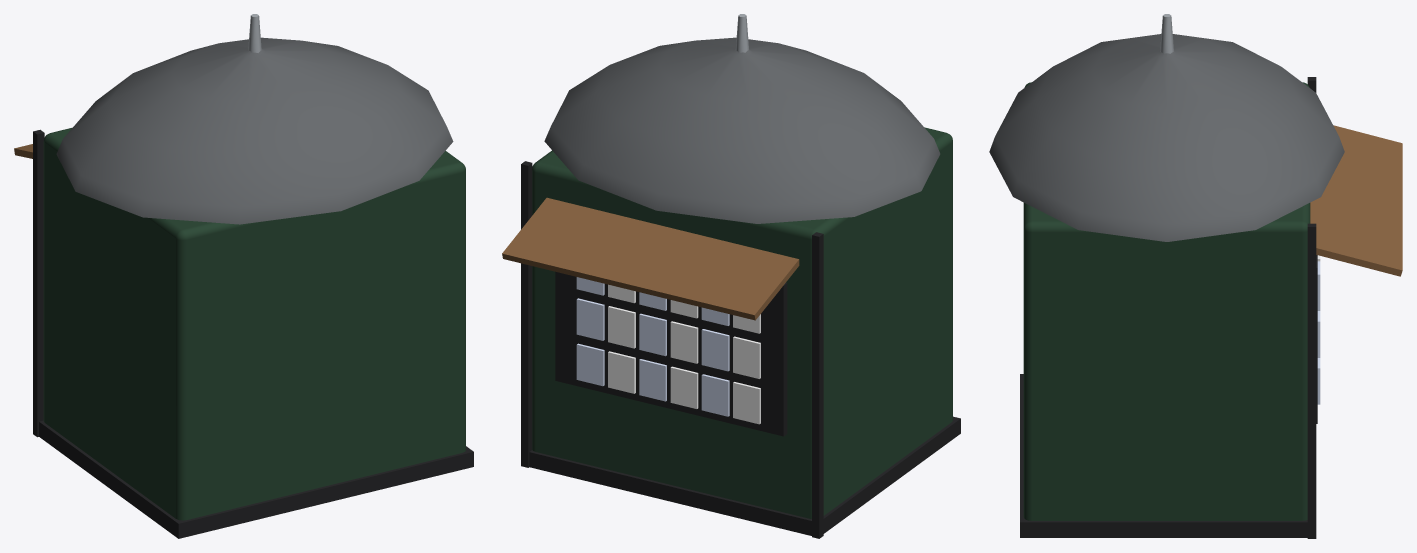
File: KIOSK.glb
The picture shows the model from 3 angles, left to right: view 1: azimuth 30°, elevation 25°; view 2: azimuth 150°, elevation 25°; view 3: azimuth 270°, elevation 25°; orthographic projection. The views are drawn at different scales.
Visible parts, largest first — view 1: paint_0, roofMetal_4, tread_1; view 2: paint_0, roofMetal_4, tread_1, wood_3, screen_2, lamps_6; view 3: paint_0, roofMetal_4, wood_3, tread_1, screen_2.
Part boxes in pixels (x1,y1,x2,y2): paint_0: [43, 127, 465, 520]; roofMetal_4: [56, 37, 453, 224]; tread_1: [33, 129, 473, 538]; paint_0: [532, 127, 952, 518]; roofMetal_4: [544, 37, 940, 223]; tread_1: [521, 161, 960, 538]; wood_3: [502, 197, 799, 320]; screen_2: [576, 277, 729, 416]; lamps_6: [608, 284, 760, 424]; paint_0: [1023, 82, 1310, 520]; roofMetal_4: [989, 34, 1344, 241]; wood_3: [1310, 125, 1402, 276]; tread_1: [1020, 77, 1317, 538]; screen_2: [1317, 261, 1320, 404].
Bounding box in the file's own units: 2.98 × 3.45 × 2.88.
